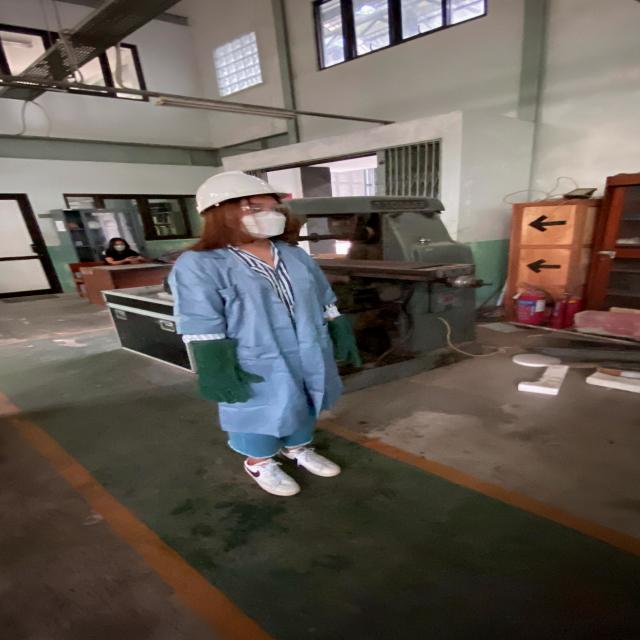face_mask: (240, 195, 294, 238), (113, 242, 127, 251)
glasses: (236, 200, 291, 217)
hand_glove: (192, 361, 268, 406), (329, 332, 366, 373)
hand_noglove: (124, 255, 141, 262)
head_helmet: (190, 170, 292, 210)
head_nohelmet: (109, 236, 127, 243)
person: (171, 168, 360, 498)
shoes: (235, 451, 313, 500), (274, 440, 347, 479)
